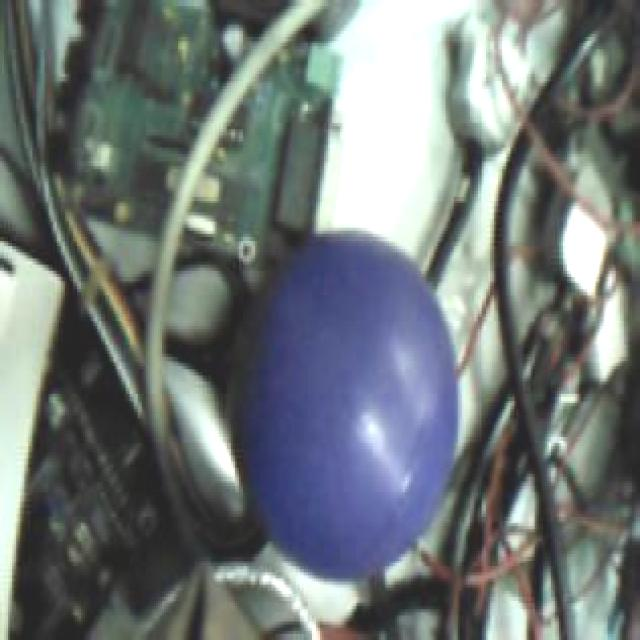BallPurple: (241, 226, 457, 579)
